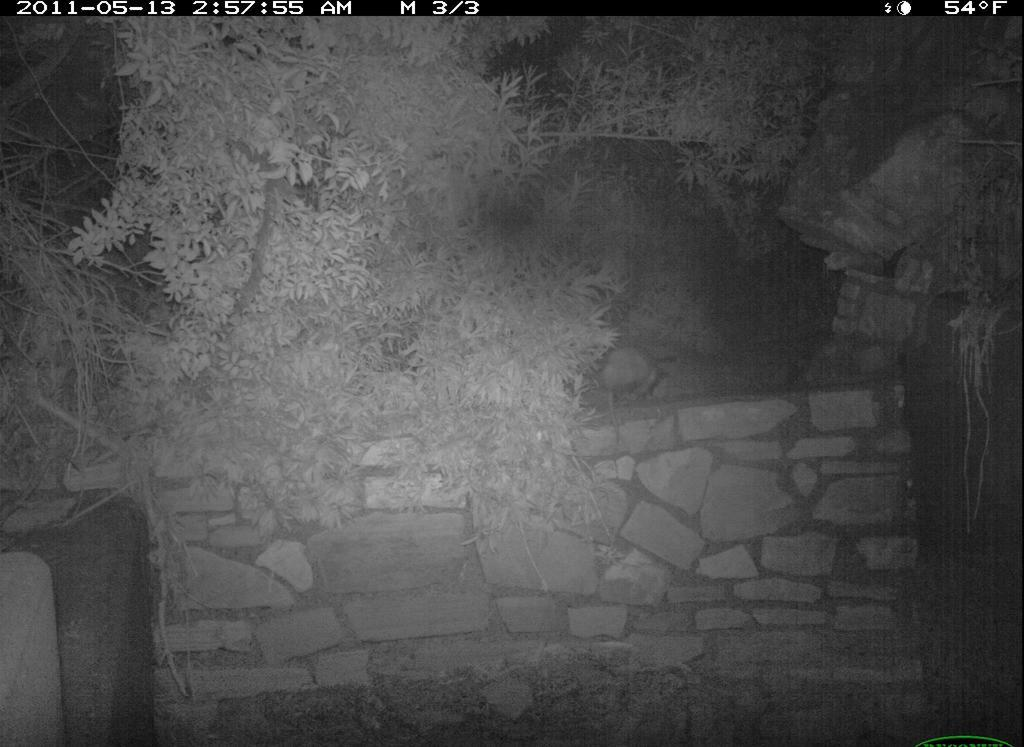opossum: (574, 303, 673, 425)
